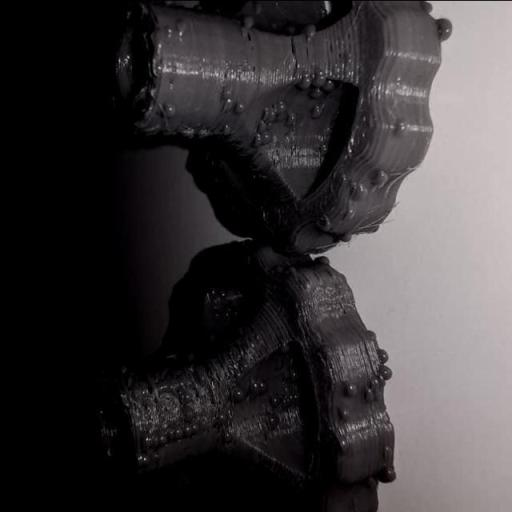blobs: (297, 20, 321, 44), (372, 168, 395, 190), (434, 14, 452, 42), (236, 12, 258, 34), (246, 377, 268, 396), (390, 119, 409, 140), (292, 74, 314, 92), (232, 95, 250, 116), (219, 119, 237, 138), (138, 431, 156, 450), (158, 103, 176, 121), (220, 428, 238, 446), (309, 101, 326, 120), (181, 124, 199, 141), (319, 77, 338, 93), (264, 410, 280, 428), (378, 364, 394, 382), (252, 132, 266, 152), (233, 386, 249, 403), (273, 98, 287, 117), (256, 119, 272, 135), (344, 380, 360, 396), (340, 403, 353, 422), (221, 93, 236, 109), (382, 465, 396, 482), (362, 387, 376, 402), (181, 422, 194, 438), (269, 393, 282, 409), (364, 476, 378, 490), (155, 434, 171, 446), (377, 348, 389, 364), (118, 361, 129, 378), (170, 428, 184, 441), (372, 376, 383, 391)
